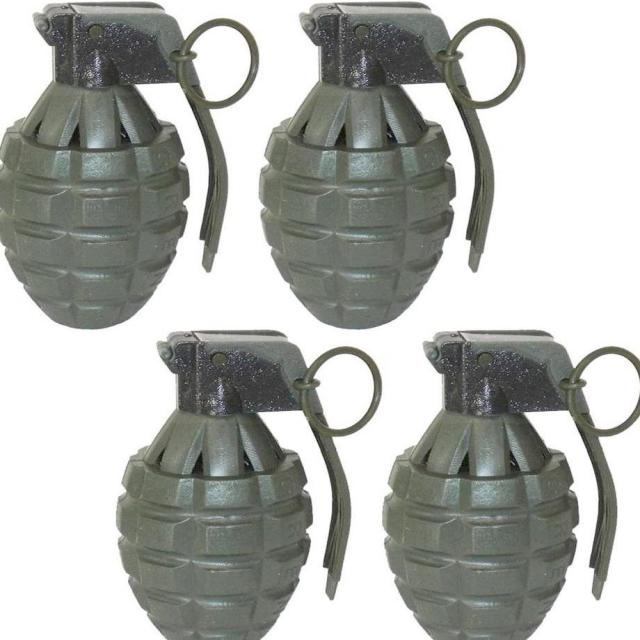grenade: (260, 1, 529, 331), (1, 2, 262, 332), (115, 330, 384, 640), (383, 331, 640, 640)
